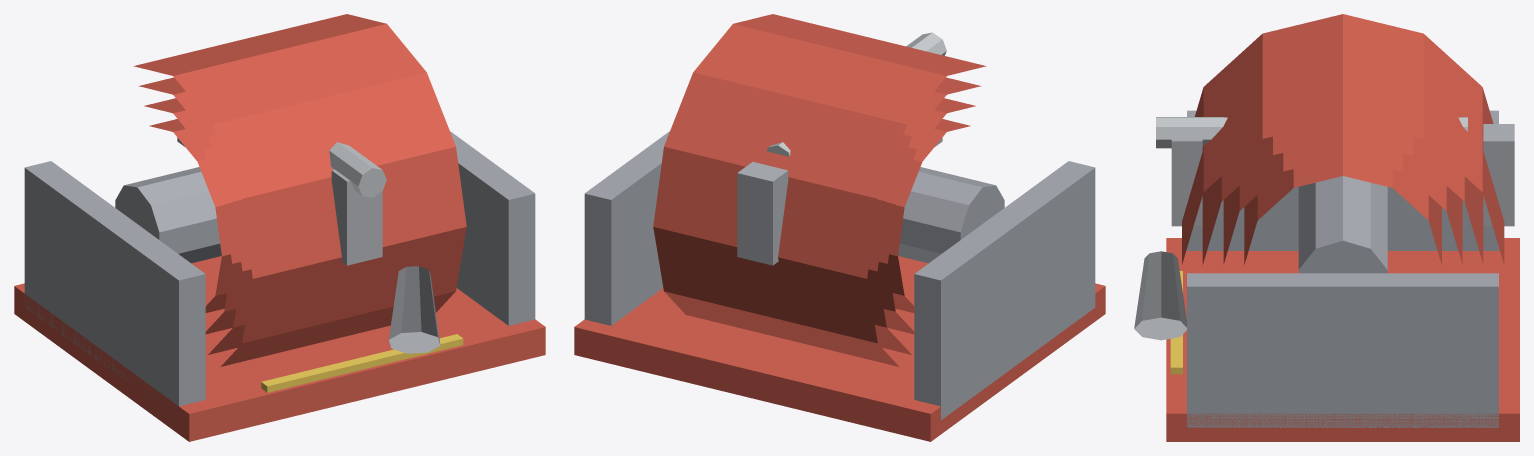
File: prop_hose_reel.glb
The picture shows the model from 3 angles, left to right: view 1: azimuth 30°, elevation 25°; view 2: azimuth 150°, elevation 25°; view 3: azimuth 270°, elevation 25°; orthographic projection.
Parts seen in each view (by area): view 1: prop_hose_reel; view 2: prop_hose_reel; view 3: prop_hose_reel.
Part boxes in pixels (x1,y1,x2,y2): prop_hose_reel: (14, 14, 545, 441); prop_hose_reel: (574, 14, 1105, 441); prop_hose_reel: (1134, 14, 1519, 441).
Size of the model in its own units: 0.4 by 0.31 by 0.371.
